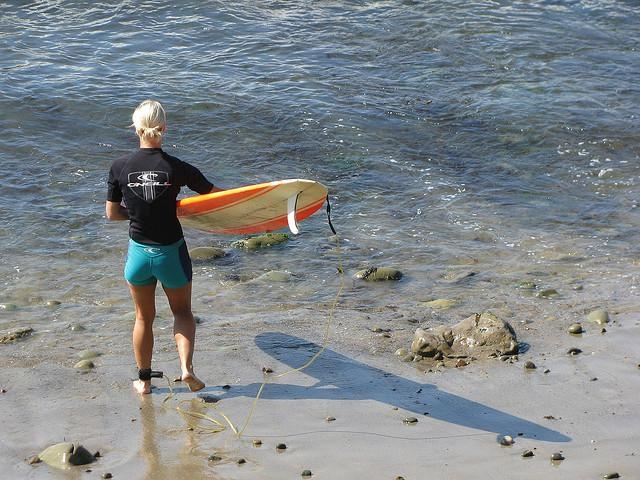person: (105, 98, 214, 392)
